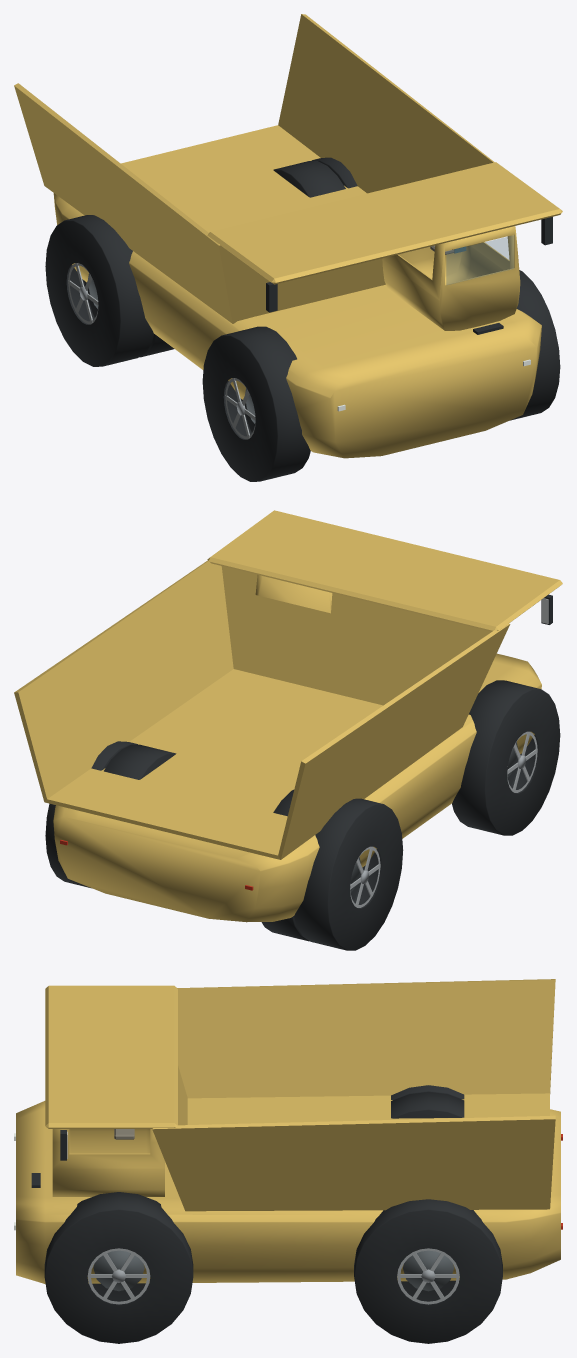
Rendered from fleet-mining.glb.
3 views of the same model, one above another, from view 1: azimuth 30°, elevation 25°; view 2: azimuth 150°, elevation 25°; view 3: azimuth 270°, elevation 25° (orthographic).
Visible parts, largest first — view 1: Surface_CarRoot_Paint, Body, WheelFrontR_Tyre, Surface_WheelRearR_Tyre, CabShell, WheelFrontL_Tyre, GlassWindshield, Surface_WheelRearL_Tyre, Surface_WheelFrontR_Rim, Surface_WheelRearR_Rim; view 2: Surface_CarRoot_Paint, Body, Surface_WheelRearR_Tyre, WheelFrontR_Tyre, Surface_WheelRearL_Tyre, CabShell, Surface_WheelFrontR_Rim, Surface_WheelRearR_Rim; view 3: Surface_CarRoot_Paint, Body, WheelFrontL_Tyre, Surface_WheelRearL_Tyre, CabShell, Surface_WheelRearR_Tyre, Surface_WheelFrontL_Rim, Surface_WheelRearL_Rim, WheelFrontL_BrakeDisc, Surface_WheelRearL_BrakeDisc.
Boxes of the visible parts, left/top/right/bottom form: Surface_CarRoot_Paint: left=14, top=14, right=562, bottom=323; Body: left=53, top=193, right=541, bottom=458; WheelFrontR_Tyre: left=202, top=326, right=310, bottom=481; Surface_WheelRearR_Tyre: left=45, top=215, right=174, bottom=366; CabShell: left=382, top=226, right=520, bottom=330; WheelFrontL_Tyre: left=510, top=270, right=560, bottom=420; GlassWindshield: left=446, top=235, right=513, bottom=284; Surface_WheelRearL_Tyre: left=273, top=157, right=357, bottom=197; Surface_WheelFrontR_Rim: left=225, top=378, right=255, bottom=439; Surface_WheelRearR_Rim: left=68, top=263, right=98, bottom=324; Surface_CarRoot_Paint: left=14, top=510, right=562, bottom=859; Body: left=53, top=653, right=541, bottom=922; Surface_WheelRearR_Tyre: left=261, top=789, right=403, bottom=950; WheelFrontR_Tyre: left=452, top=680, right=560, bottom=835; Surface_WheelRearL_Tyre: left=45, top=741, right=176, bottom=888; CabShell: left=255, top=574, right=332, bottom=613; Surface_WheelFrontR_Rim: left=507, top=731, right=537, bottom=792; Surface_WheelRearR_Rim: left=350, top=846, right=380, bottom=907; Surface_CarRoot_Paint: left=45, top=979, right=555, bottom=1211; Body: left=16, top=1101, right=560, bottom=1283; WheelFrontL_Tyre: left=44, top=1192, right=193, bottom=1343; Surface_WheelRearL_Tyre: left=354, top=1199, right=502, bottom=1343; CabShell: left=52, top=1129, right=164, bottom=1196; Surface_WheelRearR_Tyre: left=391, top=1085, right=464, bottom=1118; Surface_WheelFrontL_Rim: left=87, top=1248, right=150, bottom=1304; Surface_WheelRearL_Rim: left=397, top=1248, right=459, bottom=1304; WheelFrontL_BrakeDisc: left=93, top=1250, right=144, bottom=1291; Surface_WheelRearL_BrakeDisc: left=403, top=1250, right=453, bottom=1291.
Size of the model in its own units: 9 by 6.84 by 14.9.
